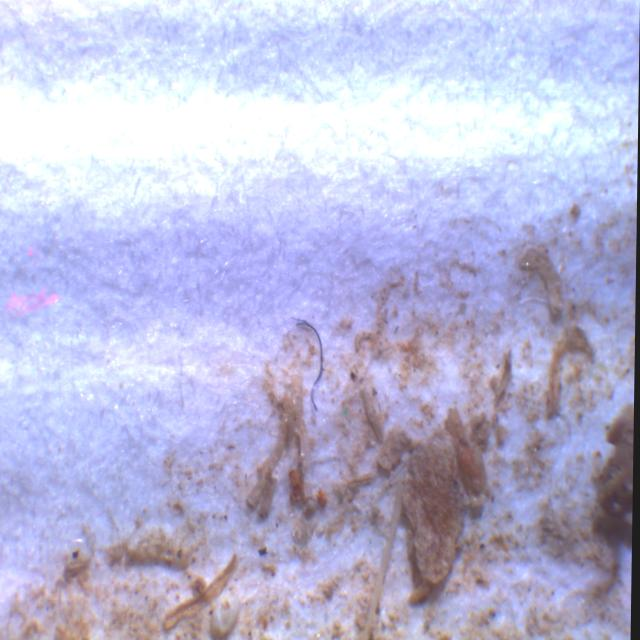microplastic: (292, 316, 324, 412)
